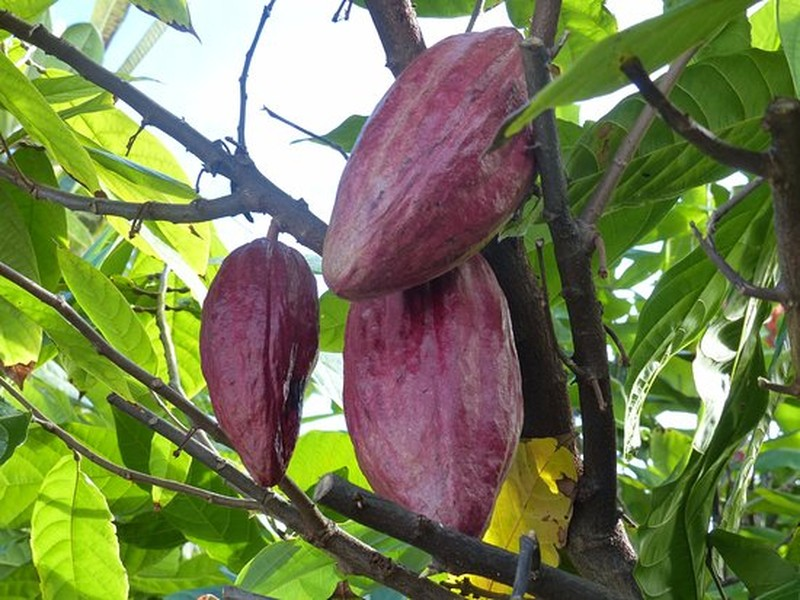Cacaopod: (324, 23, 552, 305)
